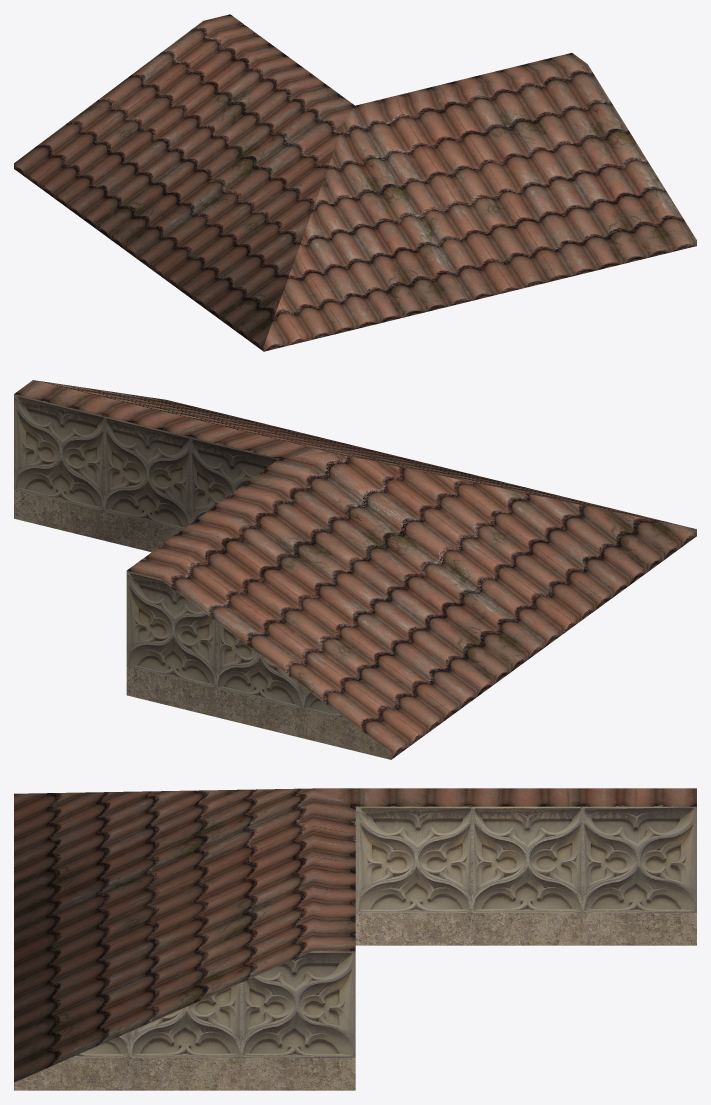
File: SH3D_Sparta_Roof5.obj
3 views of the same model, one above another, from view 1: azimuth 30°, elevation 25°; view 2: azimuth 150°, elevation 25°; view 3: azimuth 270°, elevation 25° (orthographic). The views are drawn at different scales.
Parts seen in each view (by area): view 1: Base_TileRoof0; view 2: Base_TileRoof0, Base_RoofTrim0; view 3: Base_TileRoof0, Base_RoofTrim0.
Part boxes in pixels (<box>): Base_TileRoof0: <box>14,14,696,351</box>; Base_TileRoof0: <box>14,380,696,759</box>; Base_RoofTrim0: <box>14,394,391,759</box>; Base_TileRoof0: <box>14,788,696,1082</box>; Base_RoofTrim0: <box>14,806,696,1090</box>.
Size of the model in its own units: 4.01 by 0.9 by 4.
